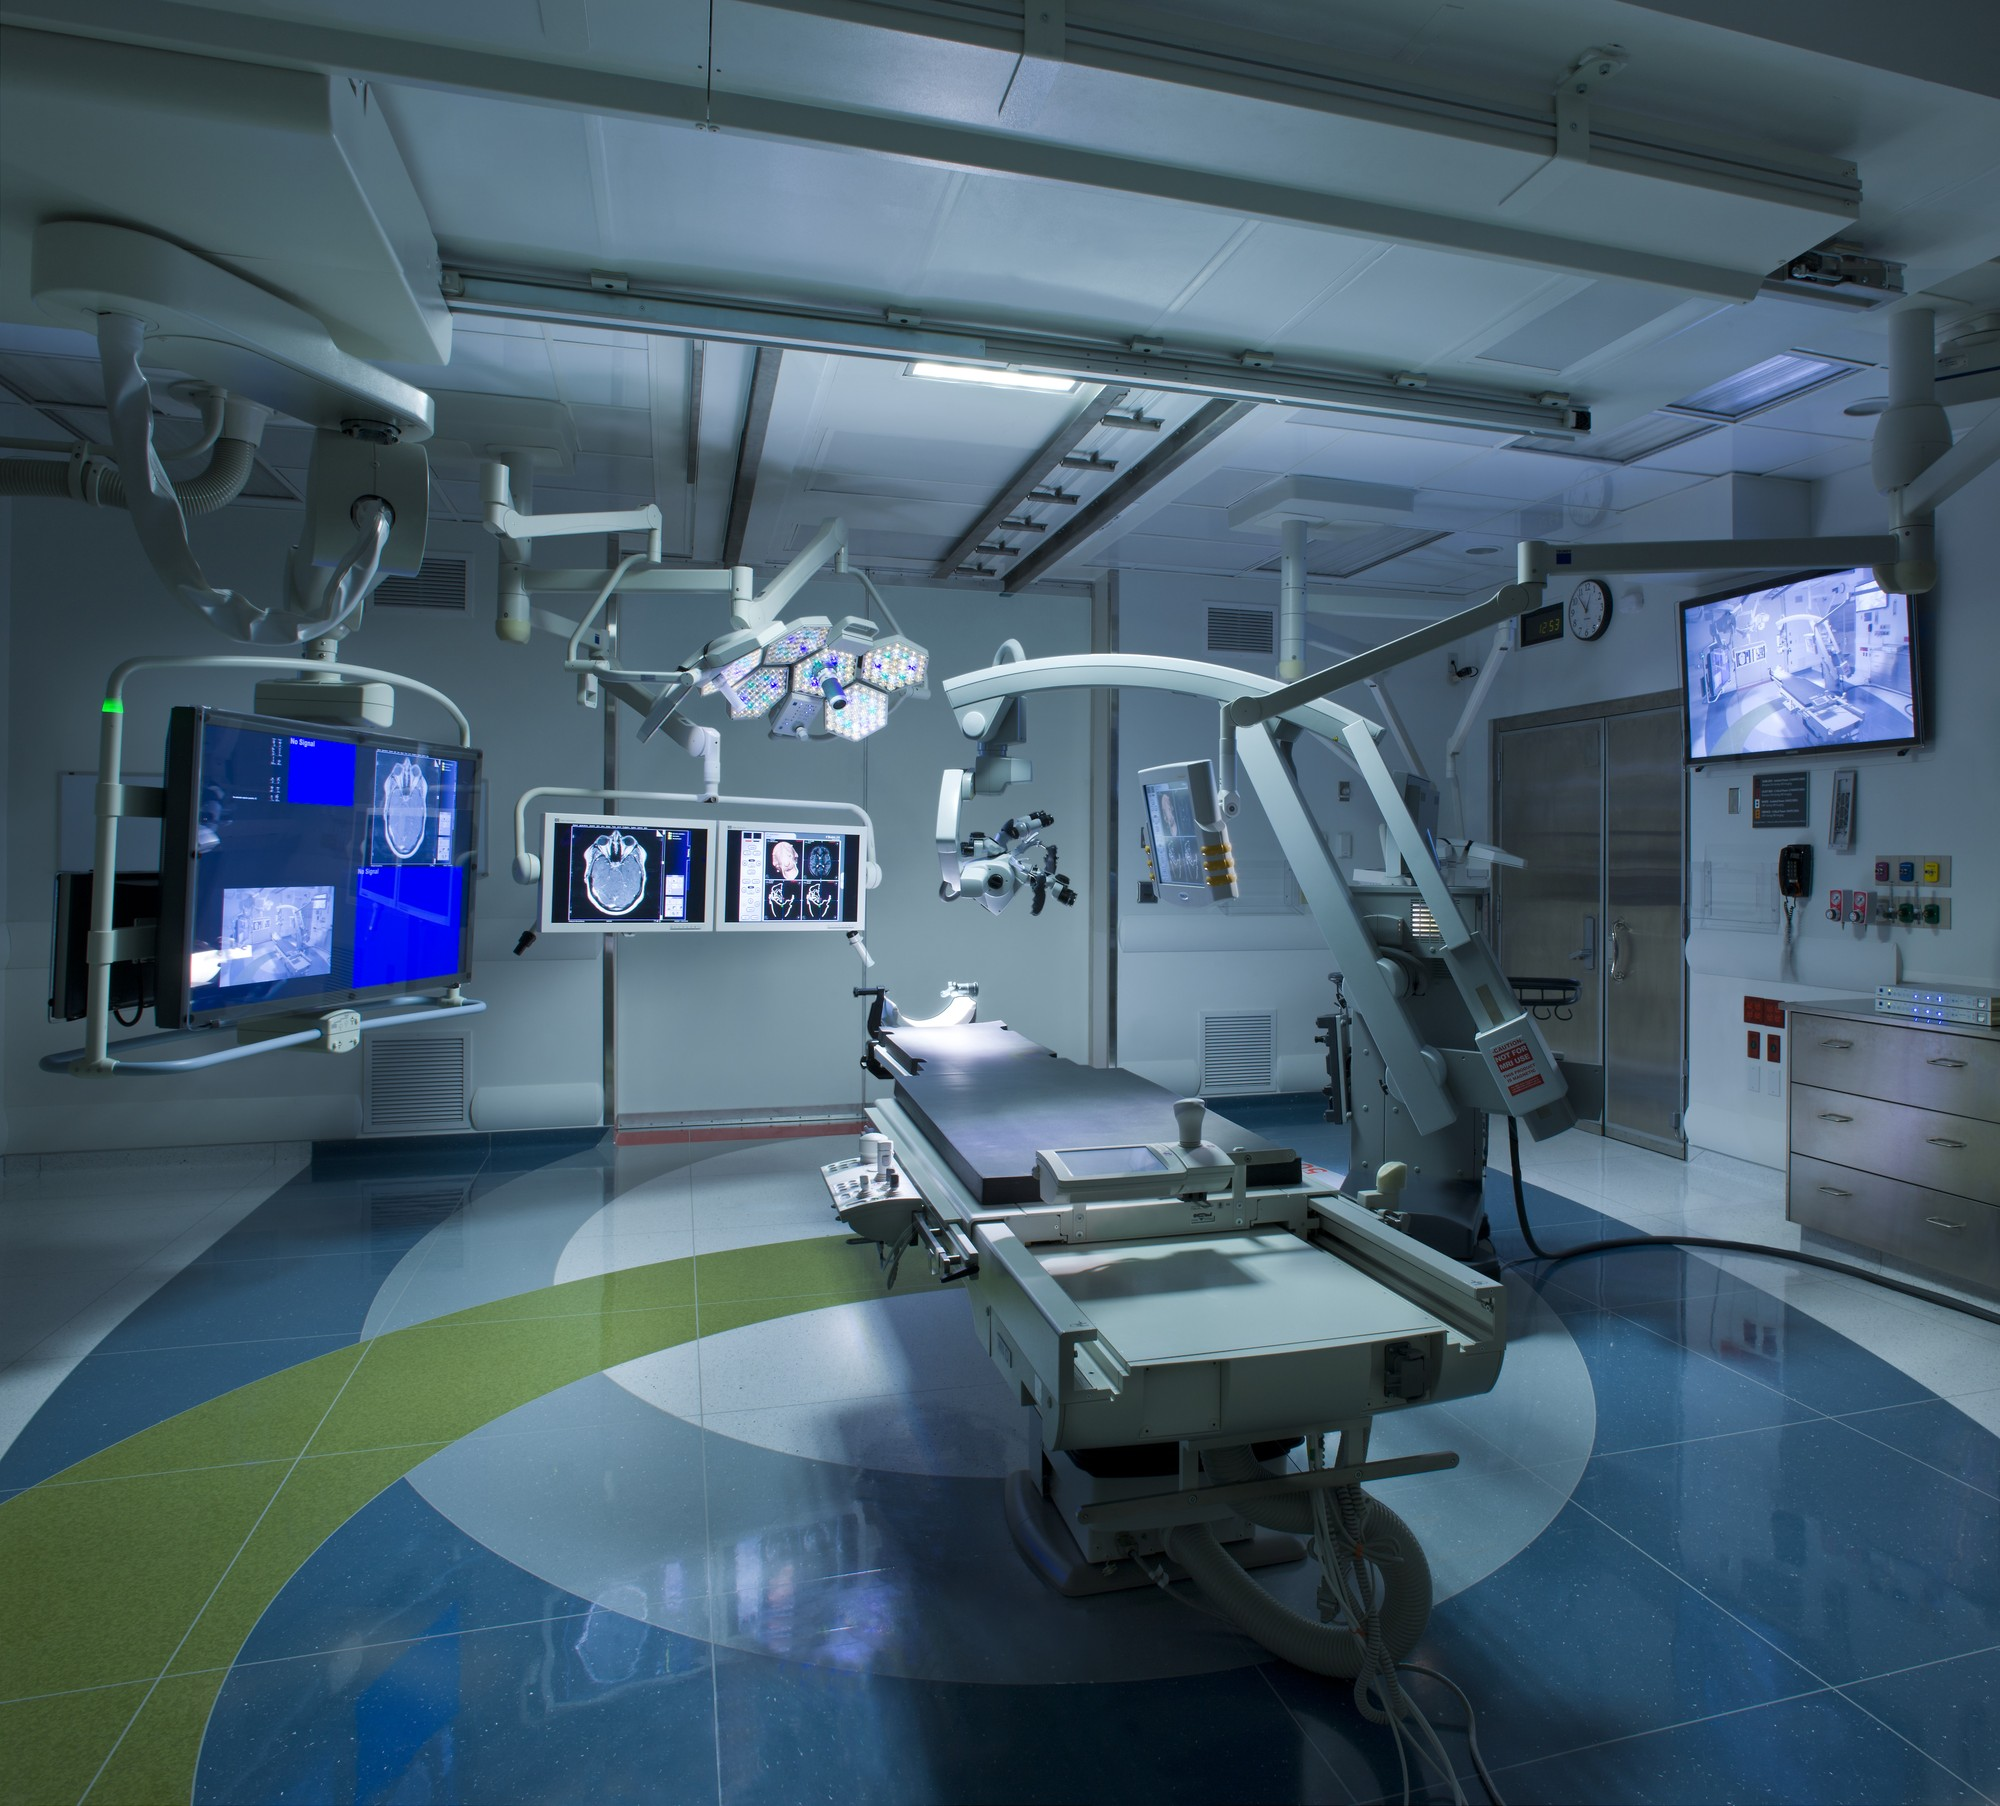TV: (1672, 564, 1930, 770)
bedside_monitor: (155, 690, 483, 1031), (540, 806, 714, 939), (714, 820, 869, 935), (1134, 758, 1242, 911)
door_handle: (1571, 916, 1599, 975), (1606, 920, 1618, 982)
drawer: (1770, 1003, 2000, 1317)
handle: (1923, 1054, 1962, 1073), (1821, 1036, 1850, 1054), (1815, 1113, 1850, 1127), (1814, 1184, 1848, 1196), (1927, 1135, 1960, 1148), (1927, 1216, 1960, 1228)
operating_bed: (821, 979, 1510, 1600)
surgical_light: (702, 613, 930, 744)
telephone: (1774, 843, 1810, 975)
